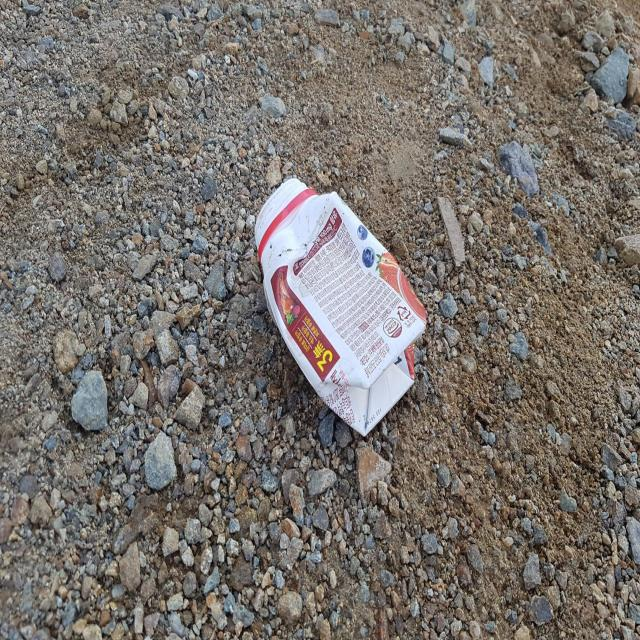paperpack: (255, 177, 427, 435)
